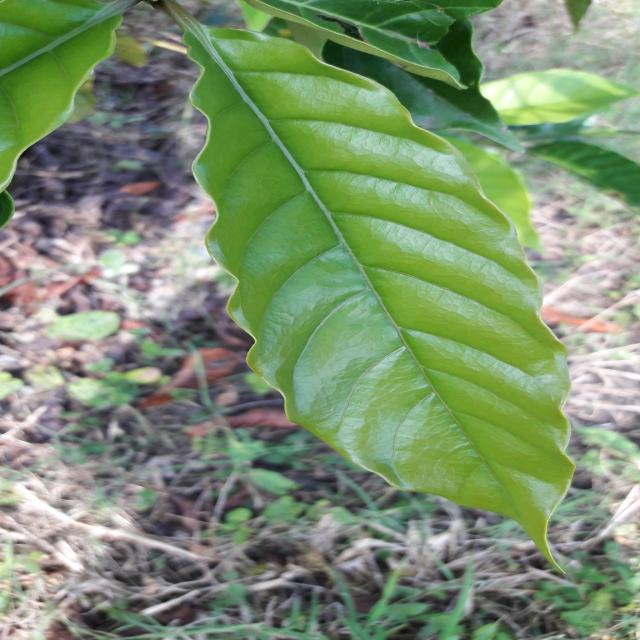Sanas: (158, 0, 576, 560)
